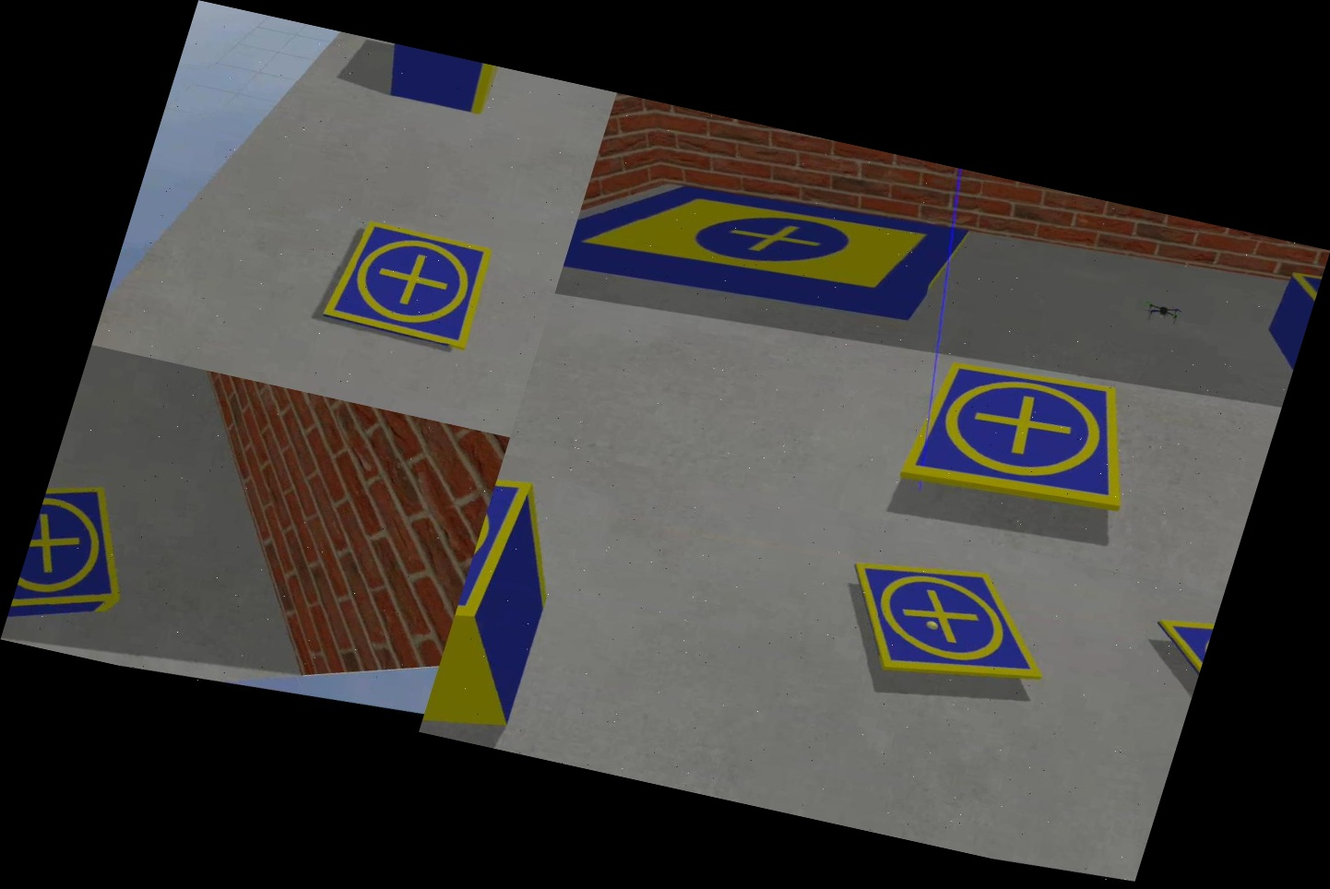large_base: (561, 147, 980, 356)
small_base: (887, 342, 1158, 527), (820, 537, 1075, 709), (309, 209, 502, 359), (6, 475, 156, 641), (1127, 603, 1217, 717)
